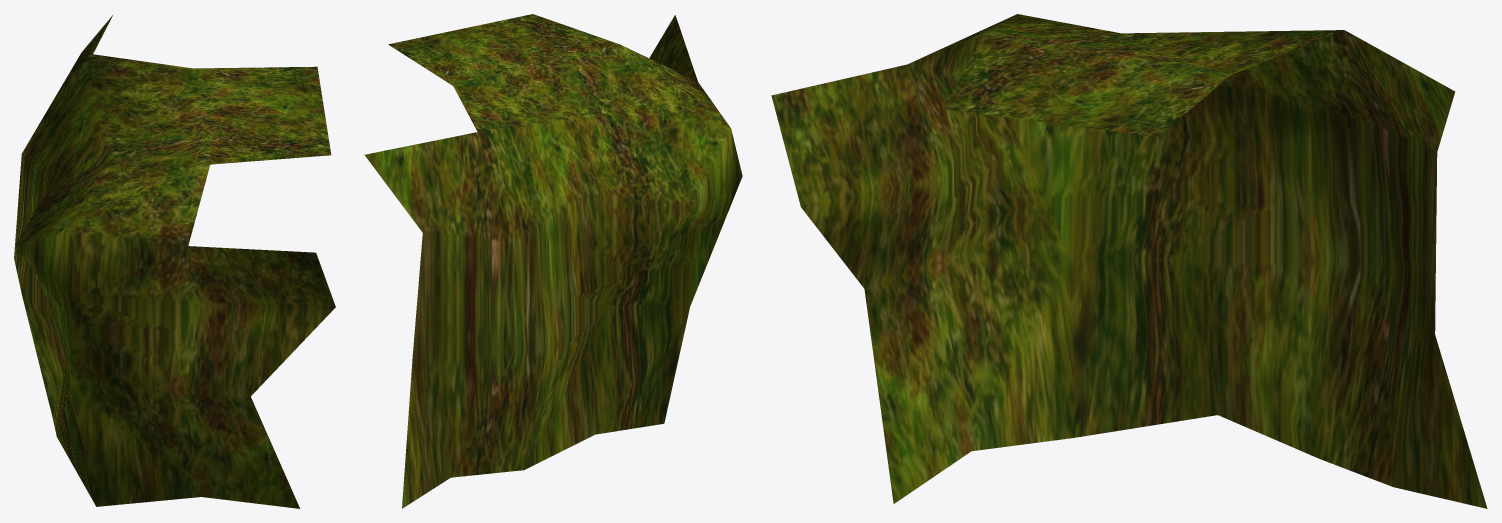
The model's file is TROLLHOLE02_RM_PSURF188.fbx.
3 views of the same model, side by side, from view 1: azimuth 30°, elevation 25°; view 2: azimuth 150°, elevation 25°; view 3: azimuth 270°, elevation 25° (orthographic). The views are drawn at different scales.
Parts seen in each view (by area): view 1: TROLLHOLE02_RM_PSURF188; view 2: TROLLHOLE02_RM_PSURF188; view 3: TROLLHOLE02_RM_PSURF188.
Part boxes in pixels (x1,y1,x2,y2): TROLLHOLE02_RM_PSURF188: (14, 15, 335, 508); TROLLHOLE02_RM_PSURF188: (364, 14, 742, 508); TROLLHOLE02_RM_PSURF188: (771, 14, 1487, 508).
Bounding box in the file's own units: 42091 × 46473 × 64896.
Materials: 1 (1 with a texture image).
